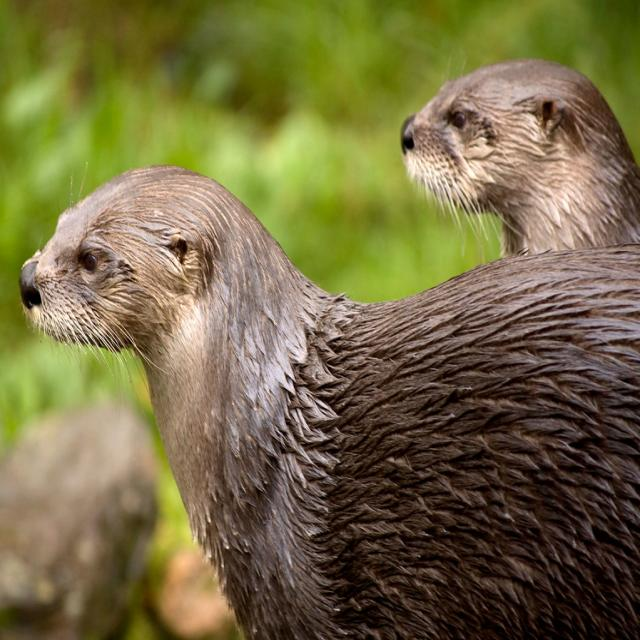otter: (21, 165, 640, 640), (402, 59, 640, 264)
